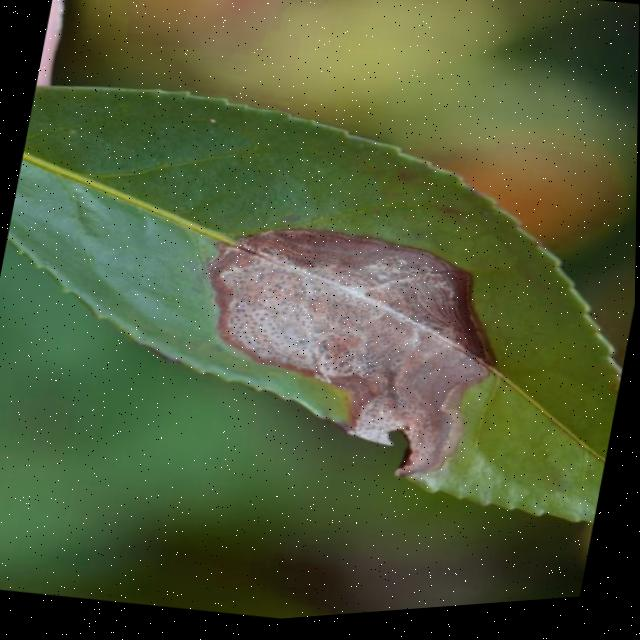Tea cloud leaf blight: (181, 207, 515, 507)
